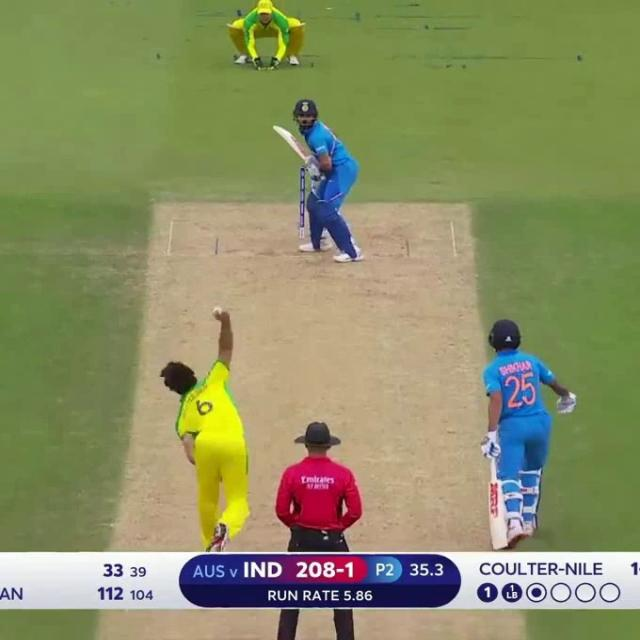bat: (480, 479, 510, 550), (272, 128, 311, 166)
